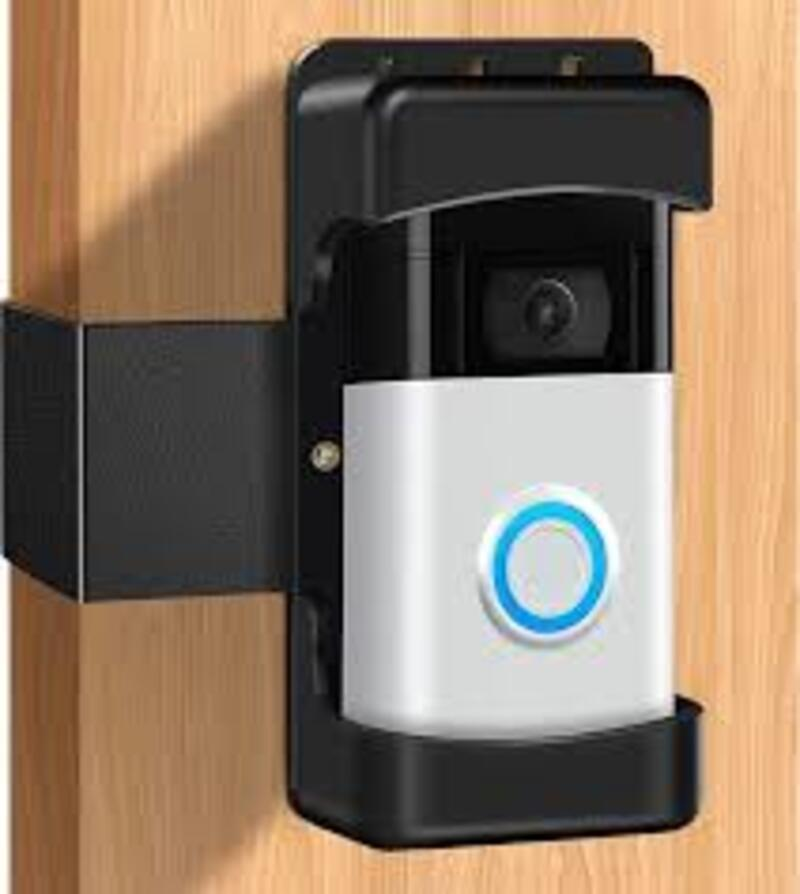doorbell: (299, 83, 694, 809)
